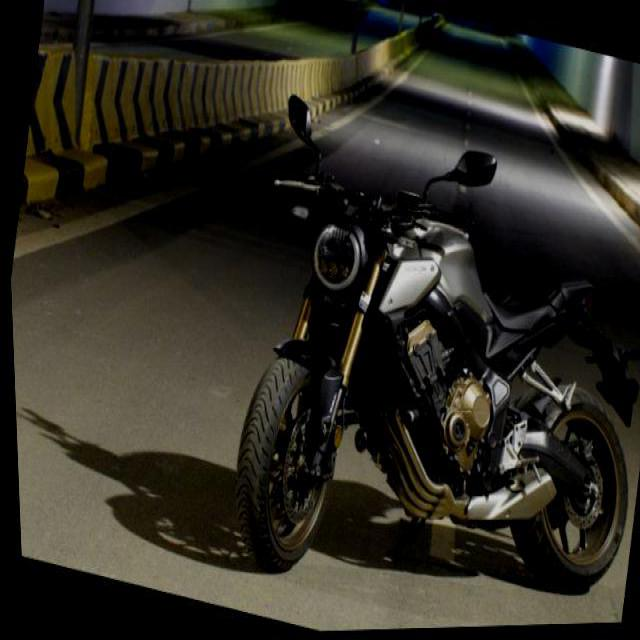CB650R: (206, 153, 639, 635)
